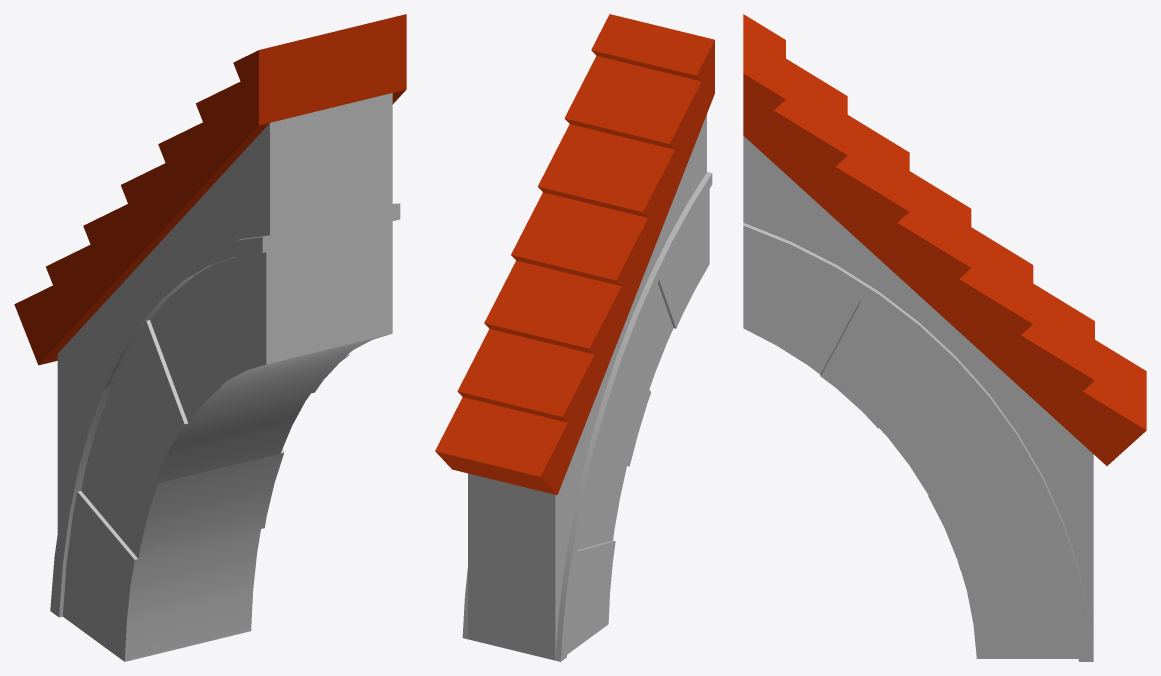
File: Building_Modular_Roof_Piece_07.fbx
3 views of the same model, side by side, from view 1: azimuth 30°, elevation 25°; view 2: azimuth 150°, elevation 25°; view 3: azimuth 270°, elevation 25° (orthographic). The views are drawn at different scales.
Visible parts, largest first — view 1: Model; view 2: Model; view 3: Model.
Part boxes in pixels (<box>): Model: <box>14,14,406,661</box>; Model: <box>435,14,714,661</box>; Model: <box>743,14,1146,661</box>.
Bounding box in the file's own units: 128 × 593 × 367.
